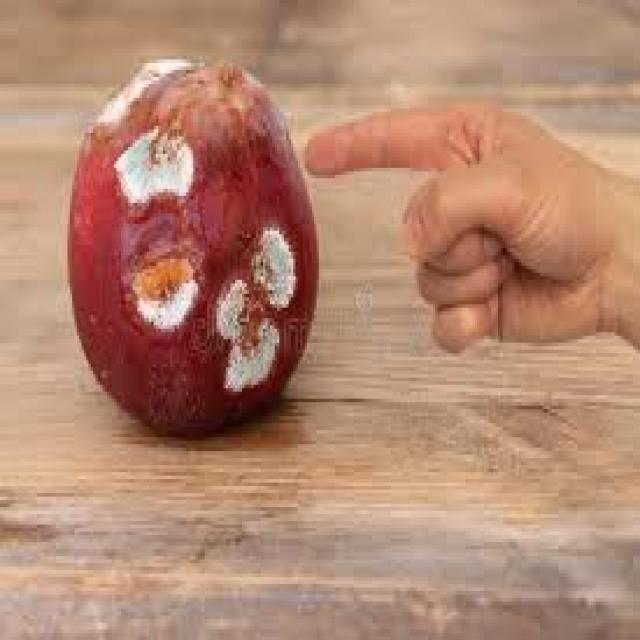organic waste: (68, 56, 314, 437)
